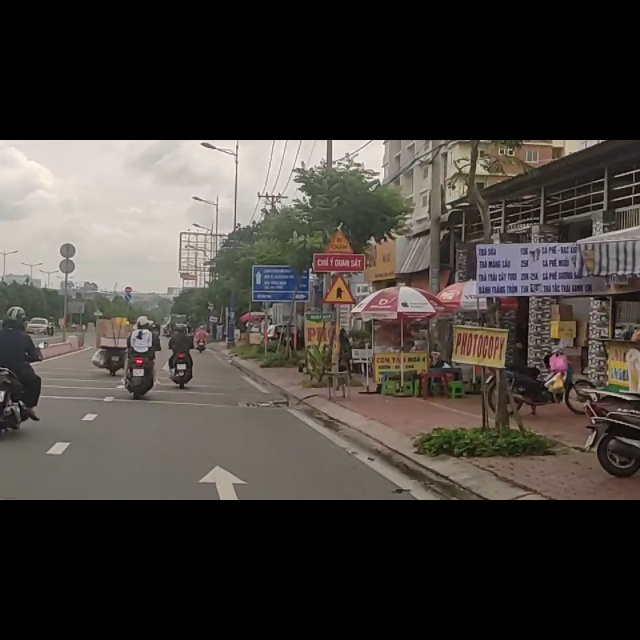bien_chi_dan: (321, 237, 357, 290), (323, 155, 353, 200)
